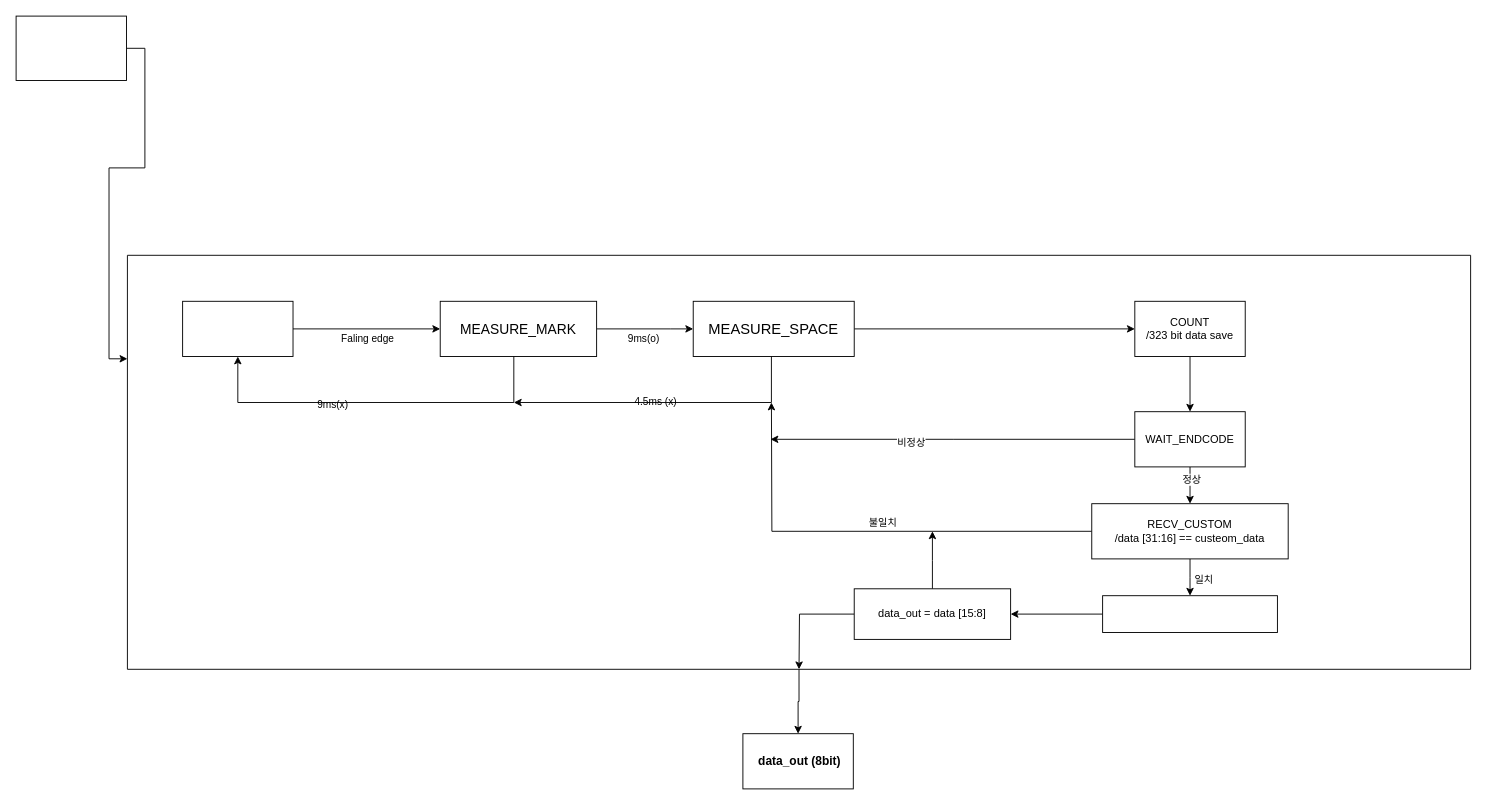
Some shapes in this 1487 by 805 pixel diagram are drawn without their labels. The centre of each missing label's shape, as x and y in pixels:
"IDLE" belongs at (x=237, y=328).
"IRDA_RXD" belongs at (x=70, y=47).
"VERIFY_AND_FINISH / data [15:8] != idata [7:0]" belongs at (x=1189, y=613).
